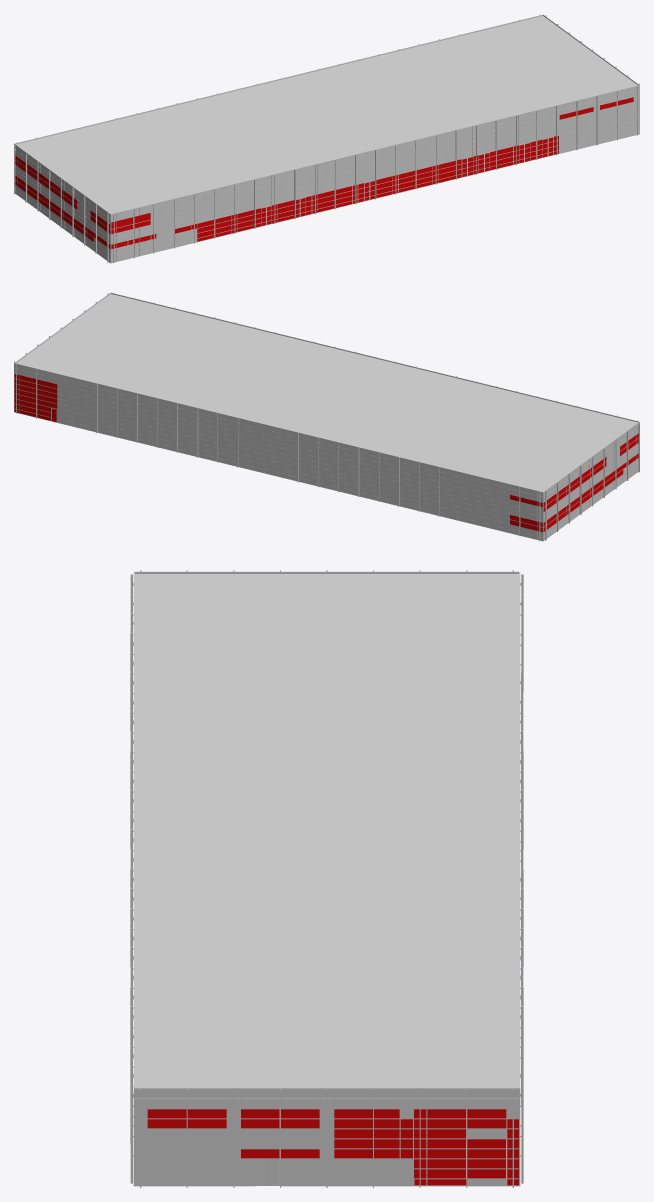
Rendered from Gebaude_C_fullDetail_triangulated.fbx.
3 views of the same model, one above another, from view 1: azimuth 30°, elevation 25°; view 2: azimuth 150°, elevation 25°; view 3: azimuth 270°, elevation 25° (orthographic). The views are drawn at different scales.
Parts seen in each view (by area): view 1: Roof, EG_walls_out, Windows, Support_Breams, Doors, Windowed_doors, EG_walls_out.002; view 2: Roof, EG_walls_out, Windows, Support_Breams, EG_walls_out.002; view 3: Roof, EG_walls_out, Windows, Support_Breams.
Part boxes in pixels (x1=…): Roof: x1=14, y1=14, x2=639, y2=214; EG_walls_out: x1=14, y1=85, x2=639, y2=263; Windows: x1=15, y1=97, x2=633, y2=249; Support_Breams: x1=14, y1=14, x2=639, y2=263; Doors: x1=116, y1=122, x2=633, y2=261; Windowed_doors: x1=261, y1=137, x2=553, y2=226; EG_walls_out.002: x1=16, y1=15, x2=638, y2=143; Roof: x1=14, y1=292, x2=639, y2=492; EG_walls_out: x1=14, y1=363, x2=639, y2=541; Windows: x1=14, y1=374, x2=638, y2=532; Support_Breams: x1=14, y1=292, x2=639, y2=541; EG_walls_out.002: x1=15, y1=293, x2=638, y2=422; Roof: x1=133, y1=571, x2=520, y2=1088; EG_walls_out: x1=133, y1=1088, x2=520, y2=1186; Windows: x1=147, y1=1109, x2=518, y2=1185; Support_Breams: x1=130, y1=570, x2=523, y2=1187.
Bounding box in the file's own units: 11114 × 3554 × 980.
